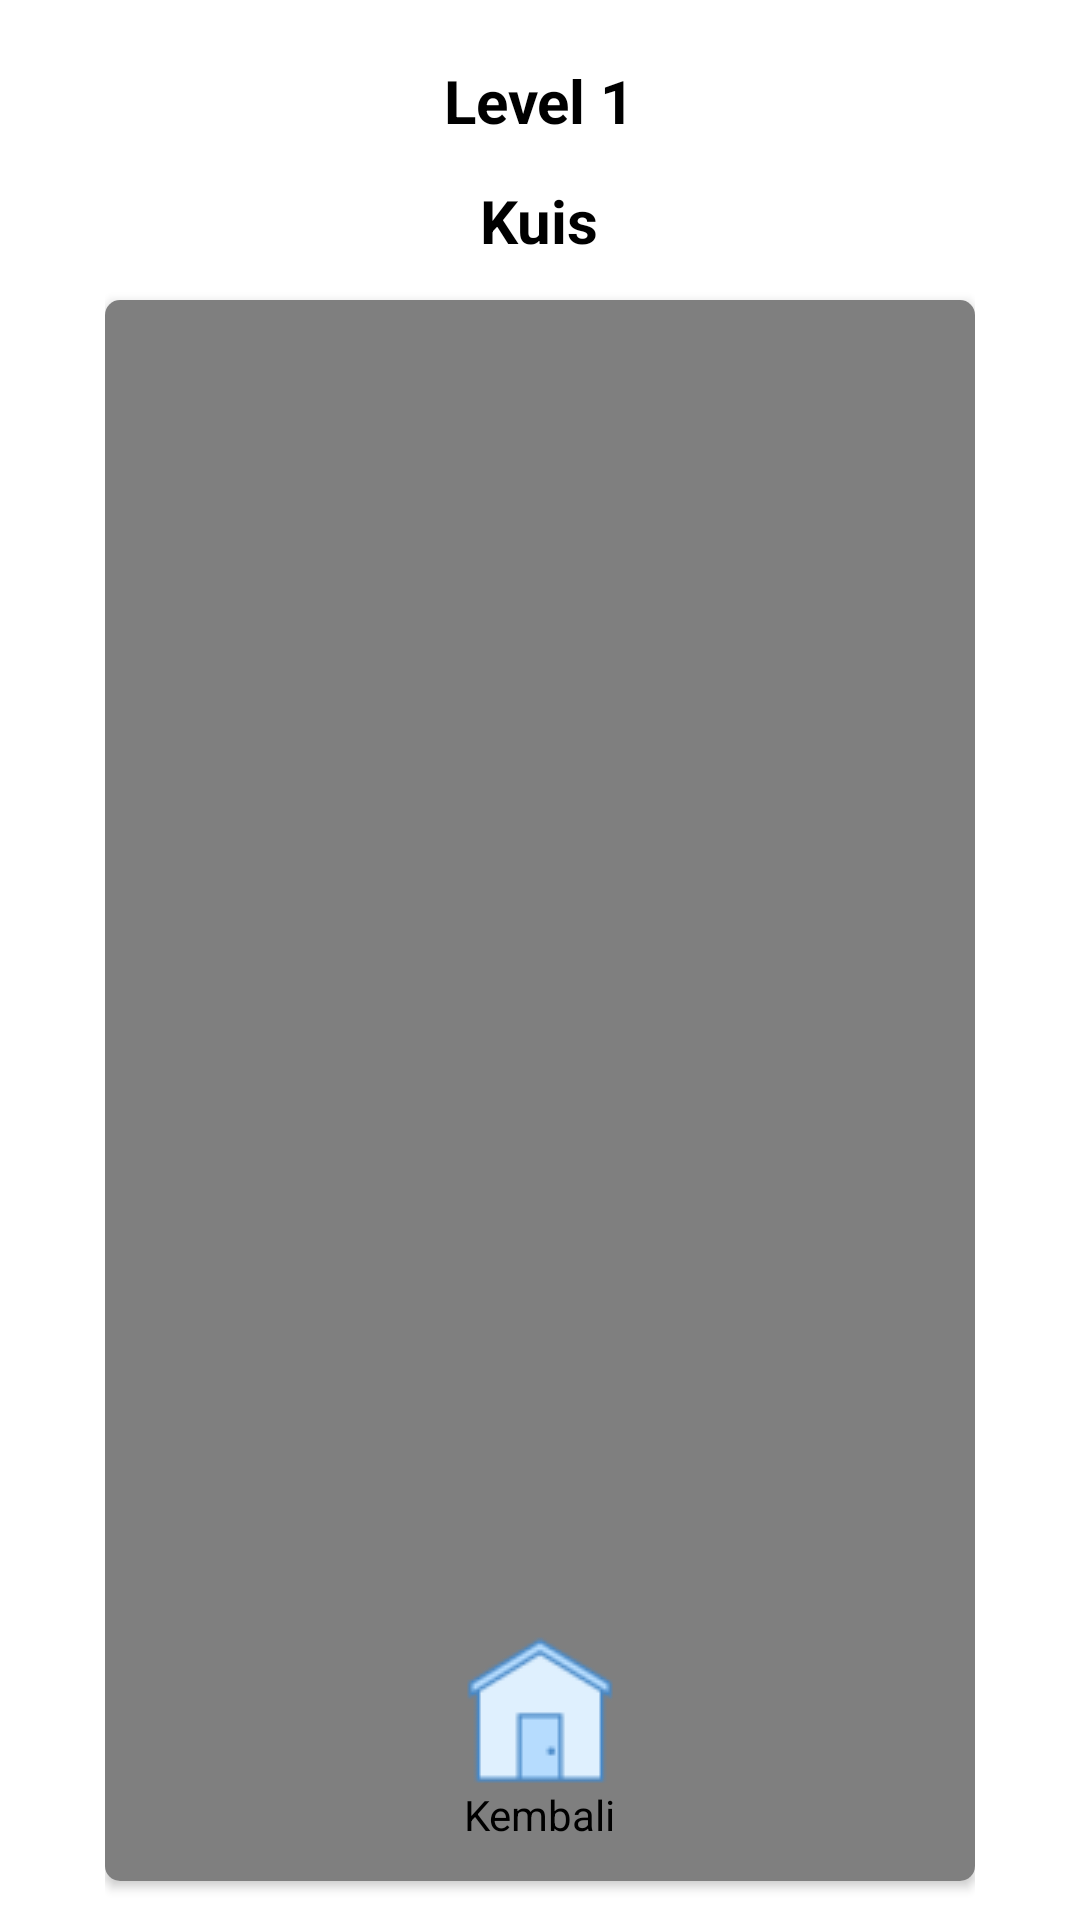

Icon click points for this 1080px x 1920px phone screenshot, format (x,y):
home: (540,1734)
